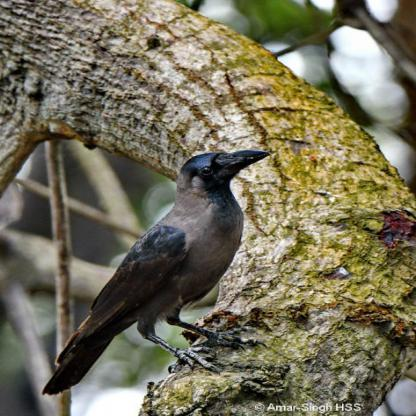Burung: (41, 150, 269, 393)
